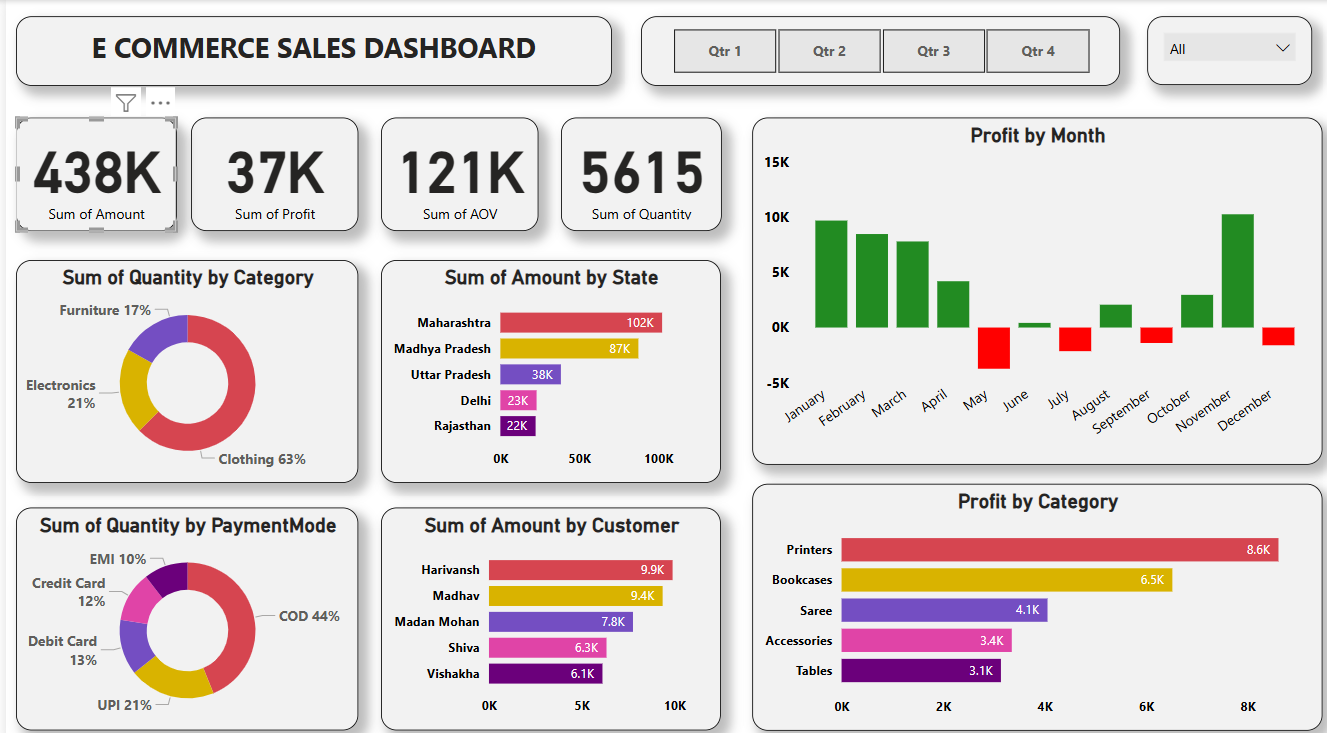

This screenshot's page, from the dashboard's own definition file:
{"tool":"powerbi","page":{"name":"Page 1","canvas":[1280,720],"ordinal":0},"visuals":[{"type":"textbox","box":[9.6,15.1,575,67.2],"z":0},{"type":"columnChart","title":"Profit by Month","fields":{"Y":["Details.Profit"],"Category":["Orders.Order Date.Variation.Date Hierarchy.Month"]},"box":[720.4,113.9,550.3,334.8],"z":1000},{"type":"barChart","title":"Profit by Category","fields":{"Y":["Details.Profit"],"Category":["Details.Sub-Category"]},"box":[720.4,466.6,550.3,238.8],"z":2000},{"type":"donutChart","fields":{"Category":["Details.Category"],"Y":["Details.Quantity"]},"box":[9.6,251.1,330.7,215.4],"z":3000},{"type":"donutChart","fields":{"Y":["Details.Quantity"],"Category":["Details.PaymentMode"]},"box":[9.6,489.9,330.7,215.4],"z":4000},{"type":"card","title":"Amount","fields":{"Values":["Details.Amount"]},"box":[9.6,113.9,155.1,109.8],"z":5000},{"type":"card","title":"Amount","fields":{"Values":["Details.AOV"]},"box":[362.3,113.9,152.3,109.8],"z":6000},{"type":"card","title":"Amount","fields":{"Values":["Details.Profit"]},"box":[178.4,113.9,161.9,109.8],"z":7000},{"type":"card","title":"Amount","fields":{"Values":["Details.Quantity"]},"box":[535.2,113.9,155.1,109.8],"z":8000},{"type":"barChart","title":"Sum of Amount by State","fields":{"Y":["Details.Amount"],"Category":["Orders.State"]},"box":[362.3,251.1,328,215.4],"z":9000},{"type":"barChart","title":"Sum of Amount by Customer","fields":{"Y":["Details.Amount"],"Category":["Orders.CustomerName"]},"box":[362.3,489.9,328,215.4],"z":10000},{"type":"slicer","fields":{"Values":["Orders.Order Date.Variation.Date Hierarchy.Quarter"]},"box":[613.4,15.1,462.4,67.2],"z":11000},{"type":"slicer","fields":{"Values":["Orders.Order Date.Variation.Date Hierarchy.Month"]},"box":[1101.5,15.7,159.3,66.4],"z":12000}]}

Visuals, with their boxes in screenshot pixels (x1, y1, x2, y2), scaled from the page's 1280x720 canvas onto the 1327x733 screenshot:
textbox: l=10, t=15, r=606, b=84
"Profit by Month" columnChart: l=747, t=116, r=1317, b=457
"Profit by Category" barChart: l=747, t=475, r=1317, b=718
donutChart - Details.Category x Details.Quantity: l=10, t=256, r=353, b=475
donutChart - Details.Quantity x Details.PaymentMode: l=10, t=499, r=353, b=718
"Amount" card: l=10, t=116, r=171, b=228
"Amount" card: l=376, t=116, r=533, b=228
"Amount" card: l=185, t=116, r=353, b=228
"Amount" card: l=555, t=116, r=716, b=228
"Sum of Amount by State" barChart: l=376, t=256, r=716, b=475
"Sum of Amount by Customer" barChart: l=376, t=499, r=716, b=718
slicer - Orders.Order Date.Variation.Date Hierarchy.Quarter: l=636, t=15, r=1115, b=84
slicer - Orders.Order Date.Variation.Date Hierarchy.Month: l=1142, t=16, r=1307, b=84
